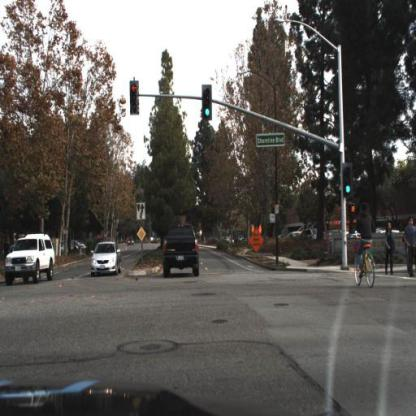biker: (352, 204, 376, 292), (357, 204, 374, 287)
car: (7, 235, 56, 287), (162, 223, 203, 279), (89, 240, 123, 278), (128, 238, 135, 248)
pedestrian: (403, 216, 416, 278), (386, 221, 396, 274)
trafficLight: (129, 78, 141, 118)
trafficLight-Green: (202, 83, 214, 124), (342, 162, 355, 199)
